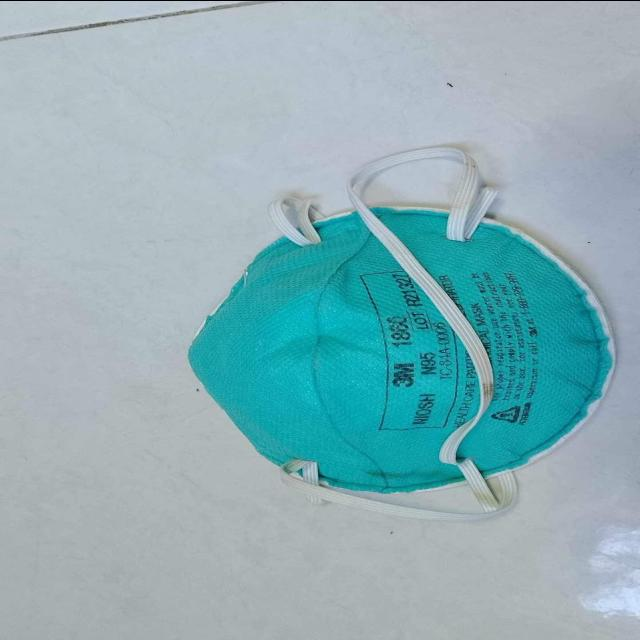Infectious: (186, 147, 616, 520)
Sharps: (342, 168, 512, 513)
